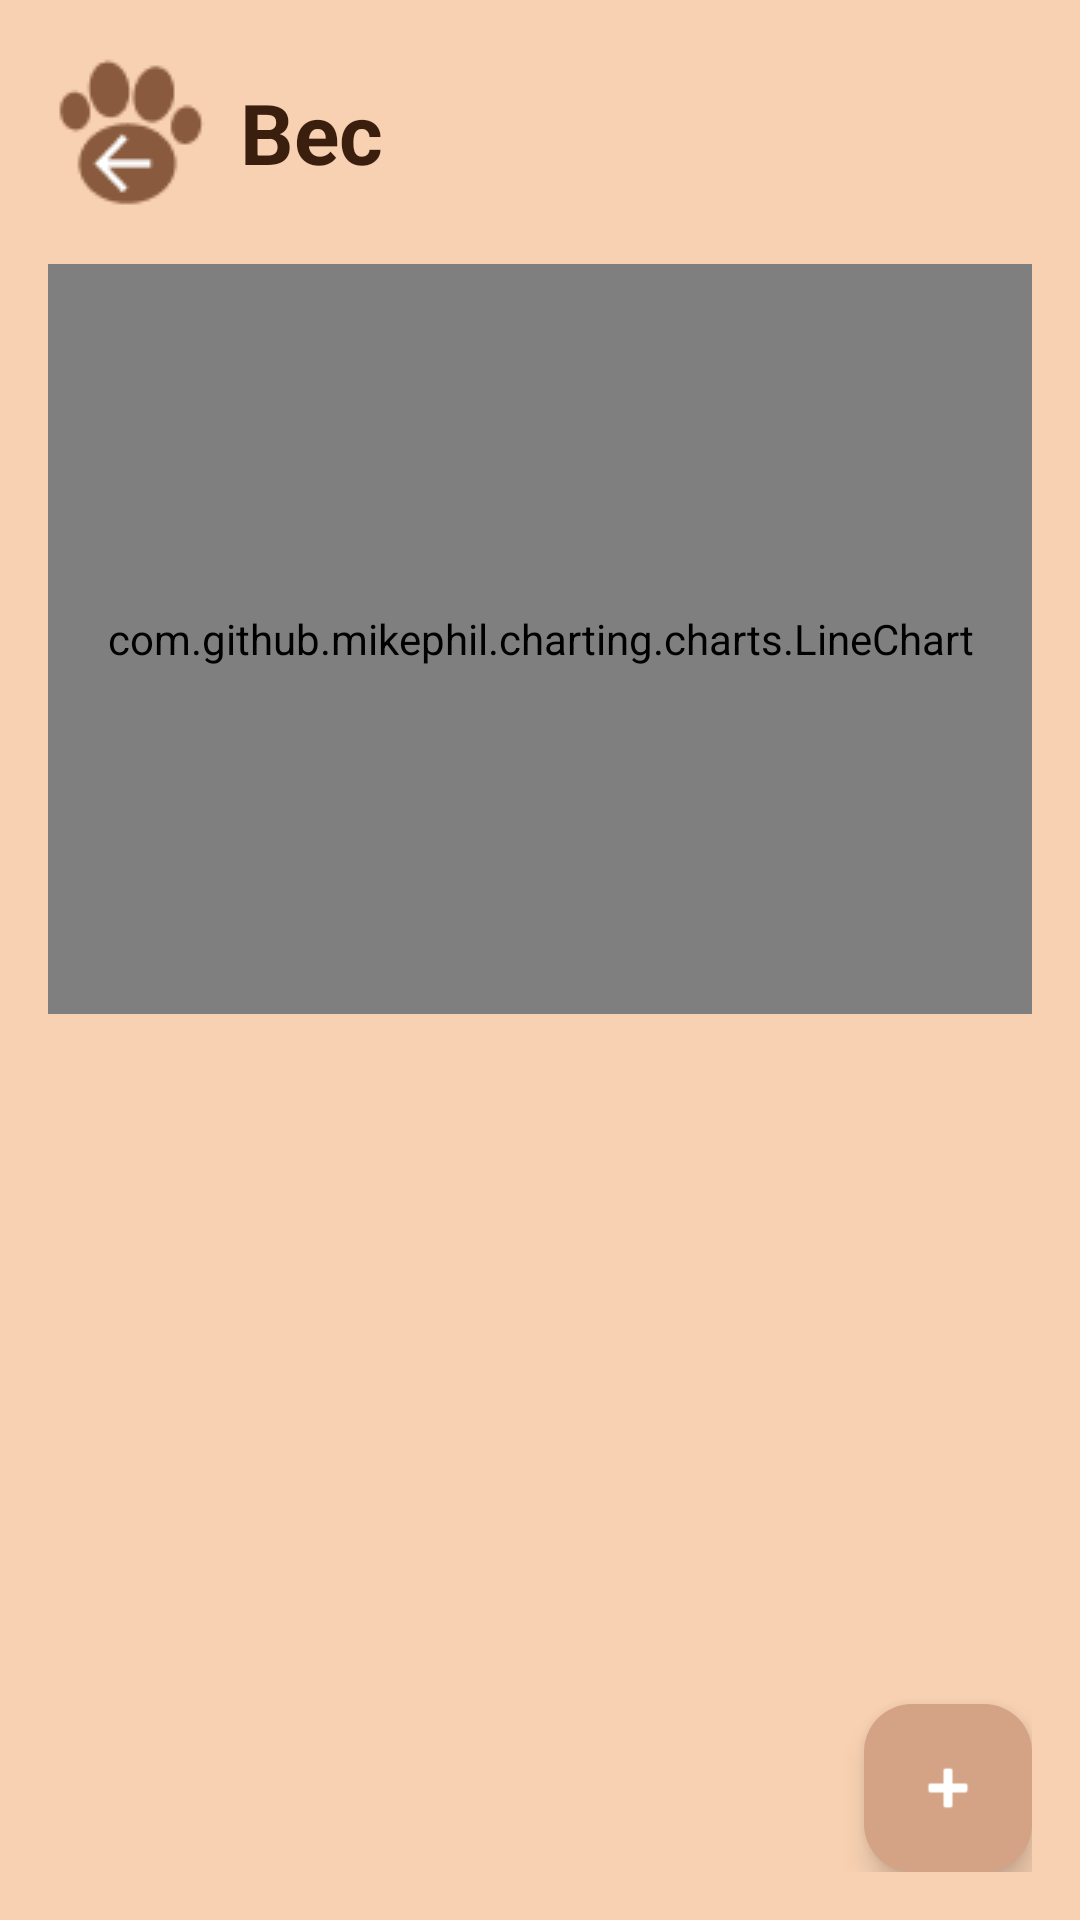

Icons on this 1080 × 1920 Android screen, each with its box as bbox(x1, y1, x2, y2):
add: bbox(864, 1704, 1032, 1872)
back: bbox(59, 60, 202, 205)
